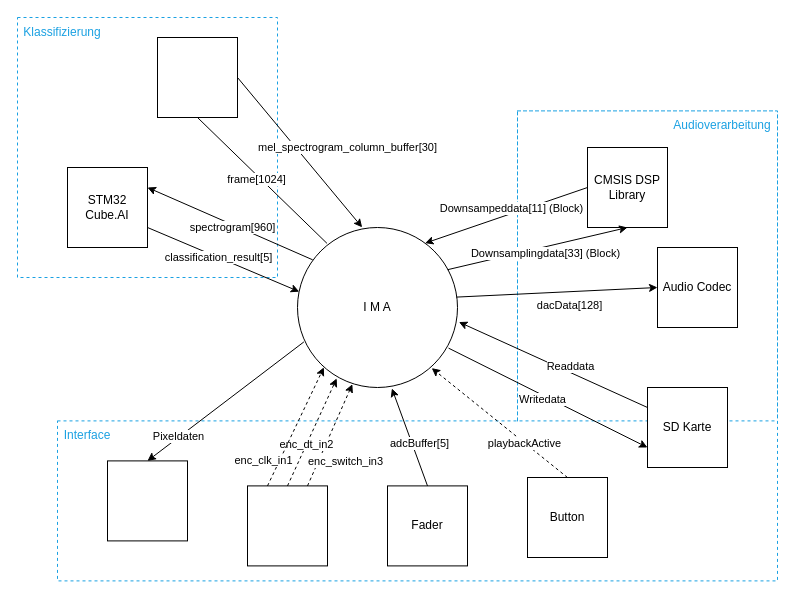
Image size: 795x599. Some labels were removed from this diagram. Each missing label, with the centre of its shape:
Encoder: the point at 287,525
SD1306 Display Driver: the point at 147,500
STM32_AI Audio Preprocessing Library: the point at 197,77
